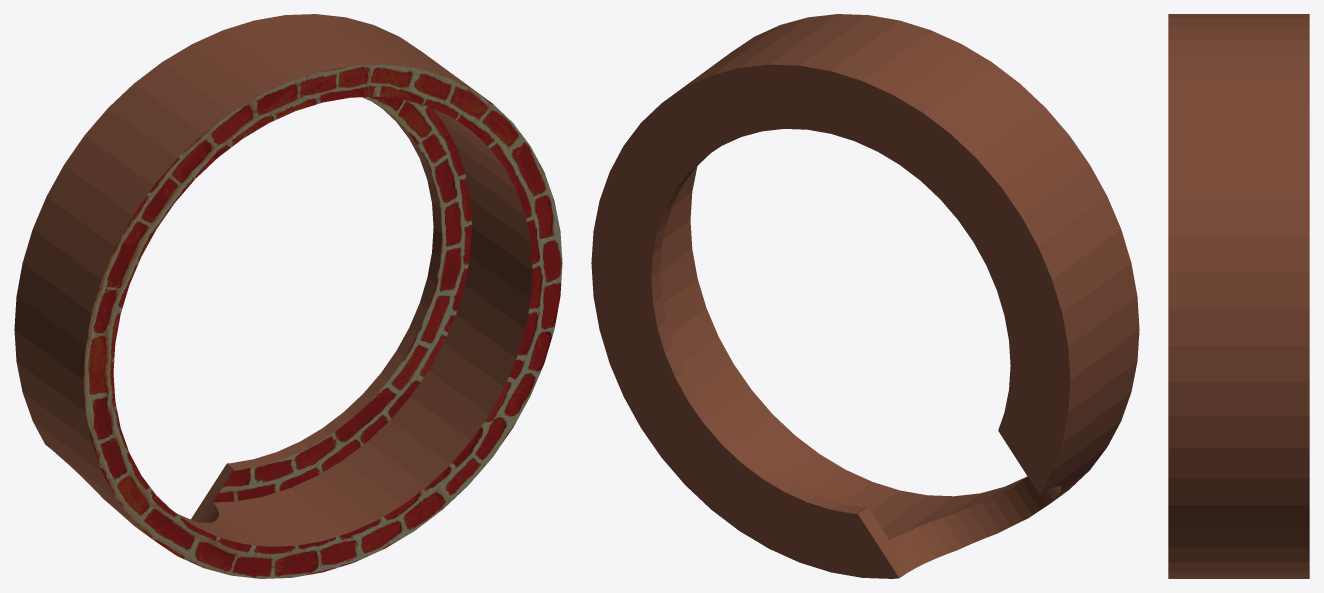
File: pool_003.obj
The picture shows the model from 3 angles, left to right: view 1: azimuth 30°, elevation 25°; view 2: azimuth 150°, elevation 25°; view 3: azimuth 270°, elevation 25°; orthographic projection. The views are drawn at different scales.
Bounding box in the file's own units: 16 × 16 × 4.
